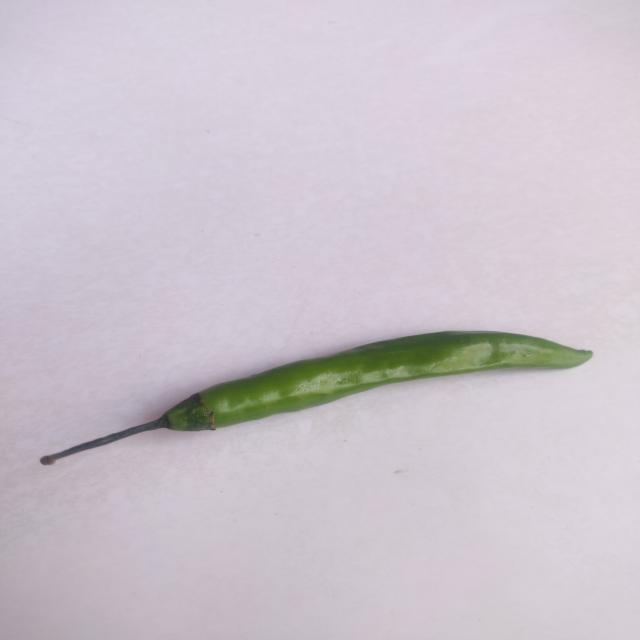Green Chilly: (24, 314, 608, 490)
